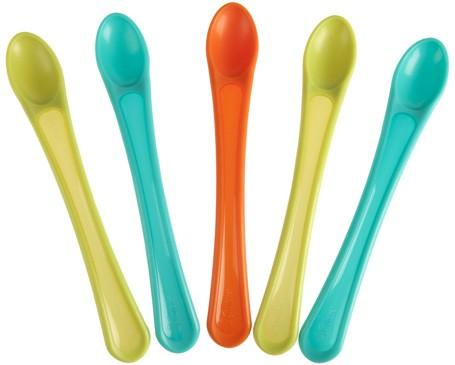Spoon: (299, 37, 449, 363), (6, 32, 151, 363), (95, 12, 200, 353), (253, 15, 356, 355), (206, 2, 258, 348)
